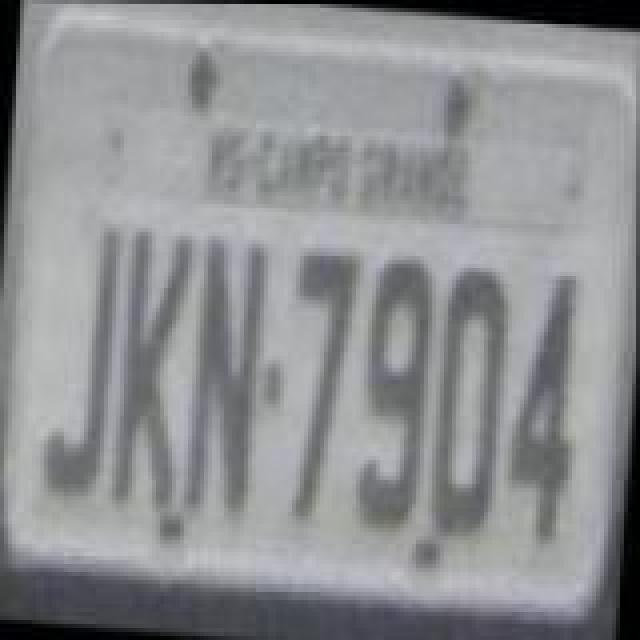4: (500, 256, 588, 548)
7: (278, 250, 362, 526)
9: (352, 250, 440, 530)
J: (42, 214, 122, 498)
K: (108, 226, 192, 510)
N: (188, 228, 272, 524)
O: (424, 258, 512, 542)
